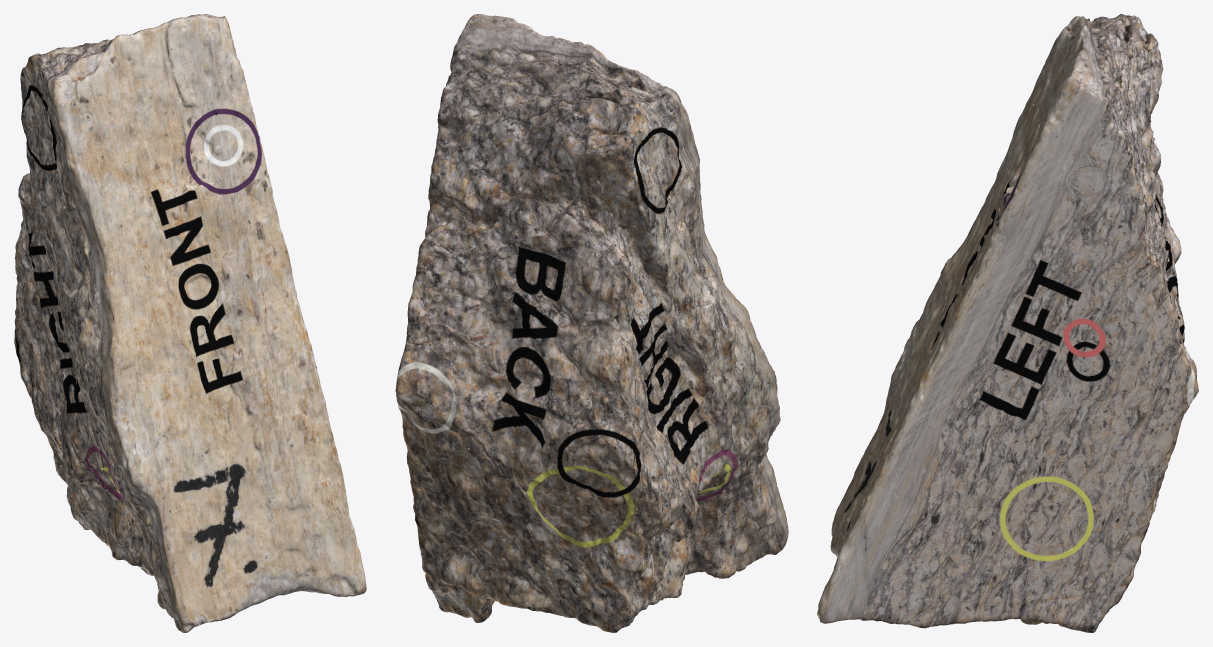
Rendered from FONT.glb.
3 views of the same model, side by side, from view 1: azimuth 30°, elevation 25°; view 2: azimuth 150°, elevation 25°; view 3: azimuth 270°, elevation 25° (orthographic). The views are drawn at different scales.
Parts seen in each view (by area): view 1: Metashape 100000 export; view 2: Metashape 100000 export; view 3: Metashape 100000 export.
Boxes of the visible parts, x1,y1,x2,y2 form: Metashape 100000 export: [14, 14, 366, 632]; Metashape 100000 export: [395, 14, 788, 632]; Metashape 100000 export: [817, 14, 1198, 632].
Size of the model in its own units: 0.4947 by 1.17 by 0.7348.
1 material, 1 textured.
